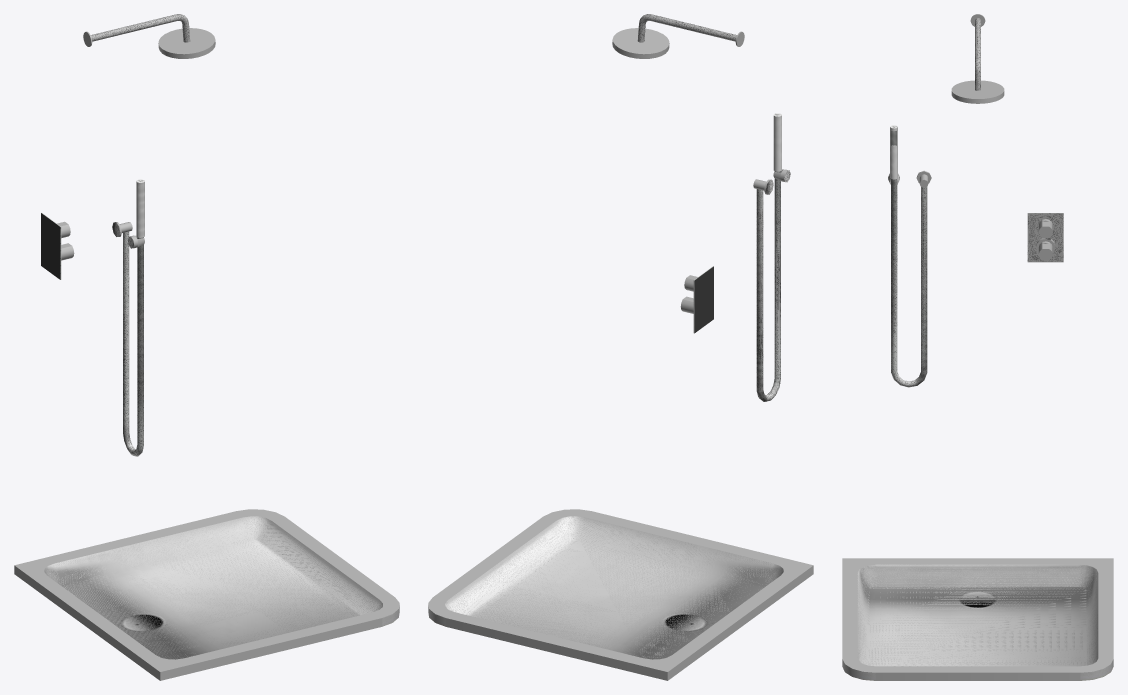
File: shower.dae
3 renders of one model, left to right at view 1: azimuth 30°, elevation 25°; view 2: azimuth 150°, elevation 25°; view 3: azimuth 270°, elevation 25°, orthographic. The views are drawn at different scales.
Visible parts, largest first — view 1: Component_2 (×6); view 2: Component_2 (×6); view 3: Component_2 (×7).
Part boxes in pixels (left/top/right/bottom): Component_2 (×6): left=14, top=14, right=399, bottom=680; Component_2 (×6): left=428, top=14, right=813, bottom=680; Component_2 (×7): left=842, top=18, right=1113, bottom=680.
Bounding box in the file's own units: 35.64 × 35.43 × 80.87.
6 materials, 4 textured.
